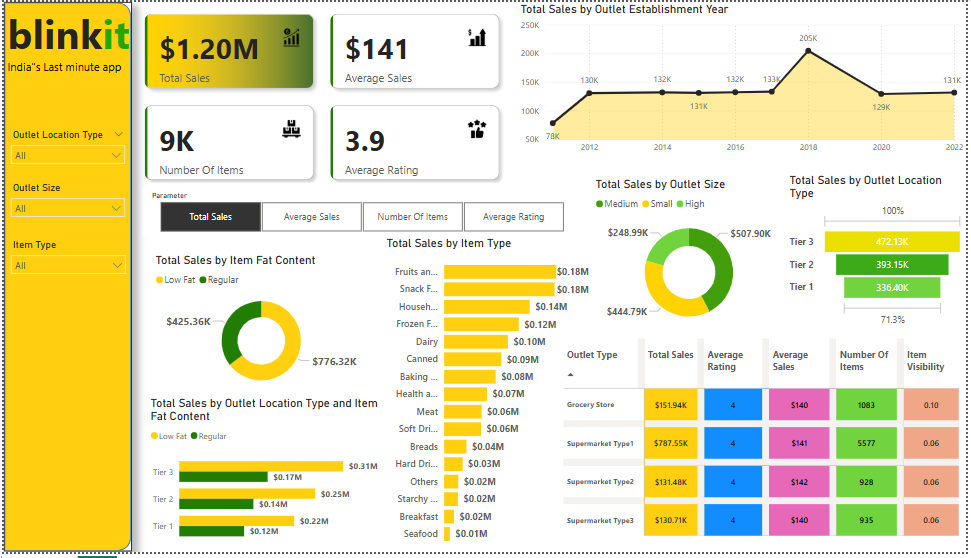

What the dashboard file says about the page in this screenshot:
{"tool":"powerbi","page":{"name":"Page 1","canvas":[1400,800],"ordinal":0},"visuals":[{"type":"shape","box":[0,0,185.6,799.2],"z":0},{"type":"textbox","box":[0,0,200.3,150.7],"z":1000},{"type":"cardVisual","fields":{"Data":["Table_1.Total Sales","Table_1.Average Sales","Table_1.Number Of Items","Table_1.Average Rating"]},"box":[187.8,0,545.3,269.4],"z":2000},{"type":"slicer","fields":{"Values":["Parameter.Parameter"]},"box":[202.1,270.1,635.7,69.8],"z":3000},{"type":"donutChart","fields":{"Y":["Table_1.Total Sales"],"Category":["Table_1.Item Fat Content"]},"box":[215,365.6,317.8,207.6],"z":4000},{"type":"clusteredBarChart","fields":{"Series":["Table_1.Item Fat Content"],"Category":["Table_1.Outlet Location Type"],"Y":["Table_1.Total Sales"]},"box":[207.3,573.1,344.5,226.9],"z":5000},{"type":"clusteredBarChart","fields":{"Y":["Table_1.Total Sales"],"Category":["Table_1.Item Type"]},"box":[551.2,339.9,305,459.3],"z":6000},{"type":"areaChart","fields":{"Category":["Table_1.Outlet Establishment Year"],"Y":["Table_1.Total Sales"]},"box":[745.9,0,654.1,229.7],"z":7000},{"type":"donutChart","fields":{"Category":["Table_1.Outlet Size"],"Y":["Table_1.Total Sales"]},"box":[855.5,254.7,282.4,230.2],"z":8000},{"type":"funnel","fields":{"Category":["Table_1.Outlet Location Type"],"Y":["Table_1.Total Sales"]},"box":[1137.1,248.2,262.9,228.6],"z":9000},{"type":"pivotTable","fields":{"Rows":["Table_1.Outlet Type"],"Values":["Table_1.Total Sales","Table_1.Average Rating","Table_1.Average Sales","Table_1.Number Of Items","Avg(Table_1.Item Visibility)"]},"box":[808.2,484.9,592.7,300.4],"z":10000},{"type":"slicer","fields":{"Values":["Table_1.Outlet Location Type"]},"box":[0,180.1,185.6,99.2],"z":11000},{"type":"slicer","fields":{"Values":["Table_1.Outlet Size"]},"box":[0,257.2,185.6,95.5],"z":12000},{"type":"slicer","fields":{"Values":["Table_1.Item Type"]},"box":[0,339.9,187.4,80.8],"z":13000}]}

Visuals, with their boxes in screenshot pixels (x1, y1, x2, y2), scaled from the page's 1400x800 canvas onto the 971x558 screenshot:
shape: {"x1": 0, "y1": 0, "x2": 129, "y2": 557}
textbox: {"x1": 0, "y1": 0, "x2": 139, "y2": 105}
cardVisual - Table_1.Total Sales x Table_1.Average Sales: {"x1": 130, "y1": 0, "x2": 508, "y2": 188}
slicer - Parameter.Parameter: {"x1": 140, "y1": 188, "x2": 581, "y2": 237}
donutChart - Table_1.Total Sales x Table_1.Item Fat Content: {"x1": 149, "y1": 255, "x2": 370, "y2": 400}
clusteredBarChart - Table_1.Item Fat Content x Table_1.Outlet Location Type: {"x1": 144, "y1": 400, "x2": 383, "y2": 557}
clusteredBarChart - Table_1.Total Sales x Table_1.Item Type: {"x1": 382, "y1": 237, "x2": 594, "y2": 557}
areaChart - Table_1.Outlet Establishment Year x Table_1.Total Sales: {"x1": 517, "y1": 0, "x2": 970, "y2": 160}
donutChart - Table_1.Outlet Size x Table_1.Total Sales: {"x1": 593, "y1": 178, "x2": 789, "y2": 338}
funnel - Table_1.Outlet Location Type x Table_1.Total Sales: {"x1": 789, "y1": 173, "x2": 970, "y2": 333}
pivotTable - Table_1.Outlet Type x Table_1.Total Sales: {"x1": 561, "y1": 338, "x2": 970, "y2": 548}
slicer - Table_1.Outlet Location Type: {"x1": 0, "y1": 126, "x2": 129, "y2": 195}
slicer - Table_1.Outlet Size: {"x1": 0, "y1": 179, "x2": 129, "y2": 246}
slicer - Table_1.Item Type: {"x1": 0, "y1": 237, "x2": 130, "y2": 293}
